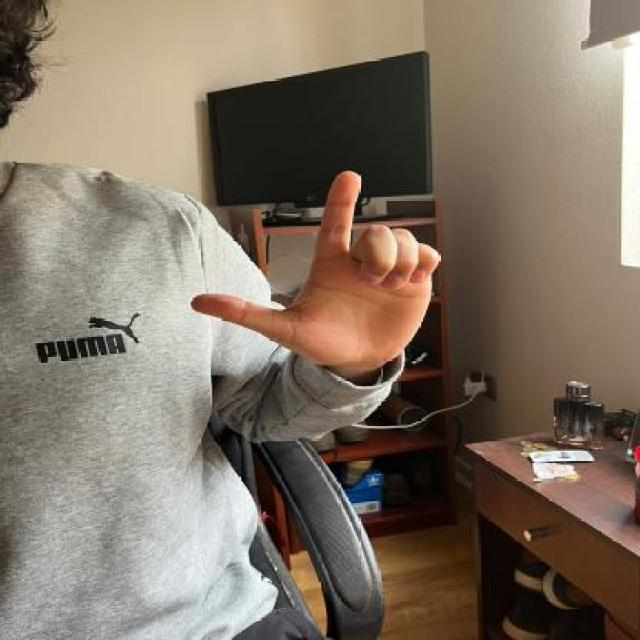L: (185, 164, 448, 371)
